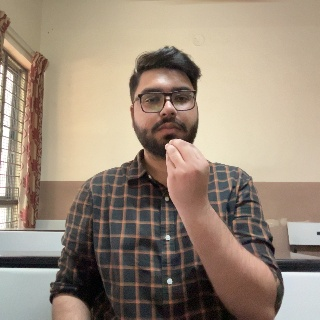Food: (163, 137, 222, 227)
